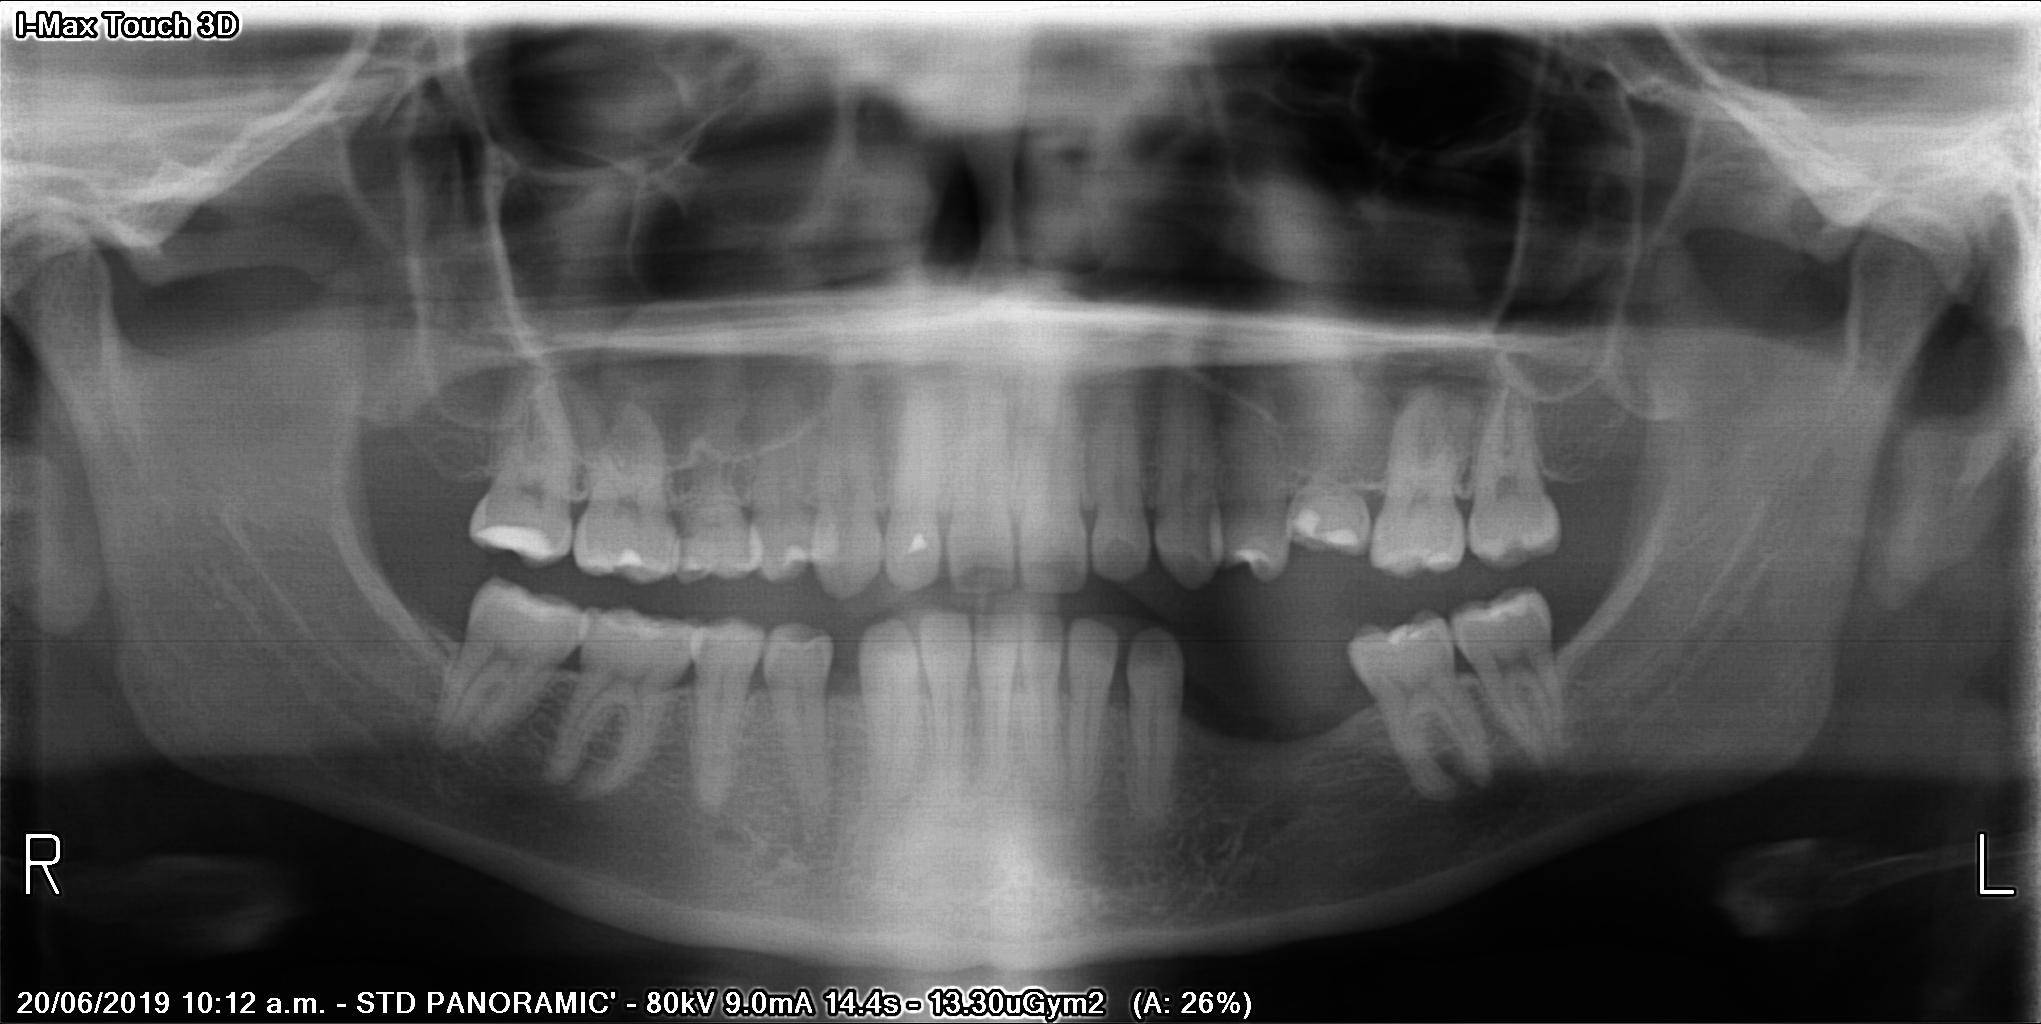Çürük: (476, 514, 555, 564), (1294, 509, 1356, 553), (614, 544, 643, 569)
